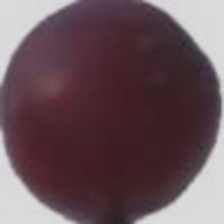grapes: (54, 33, 199, 211)
